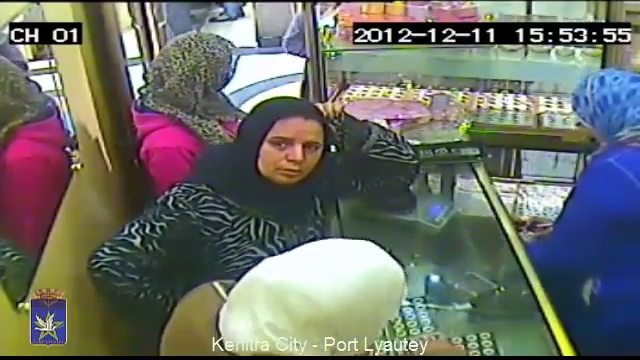face: (264, 130, 322, 185)
